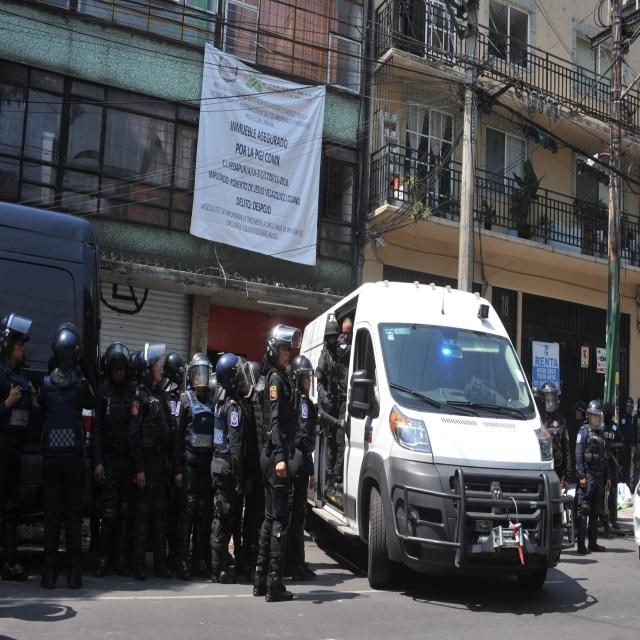stamps: (193, 52, 323, 266), (532, 341, 560, 390)
